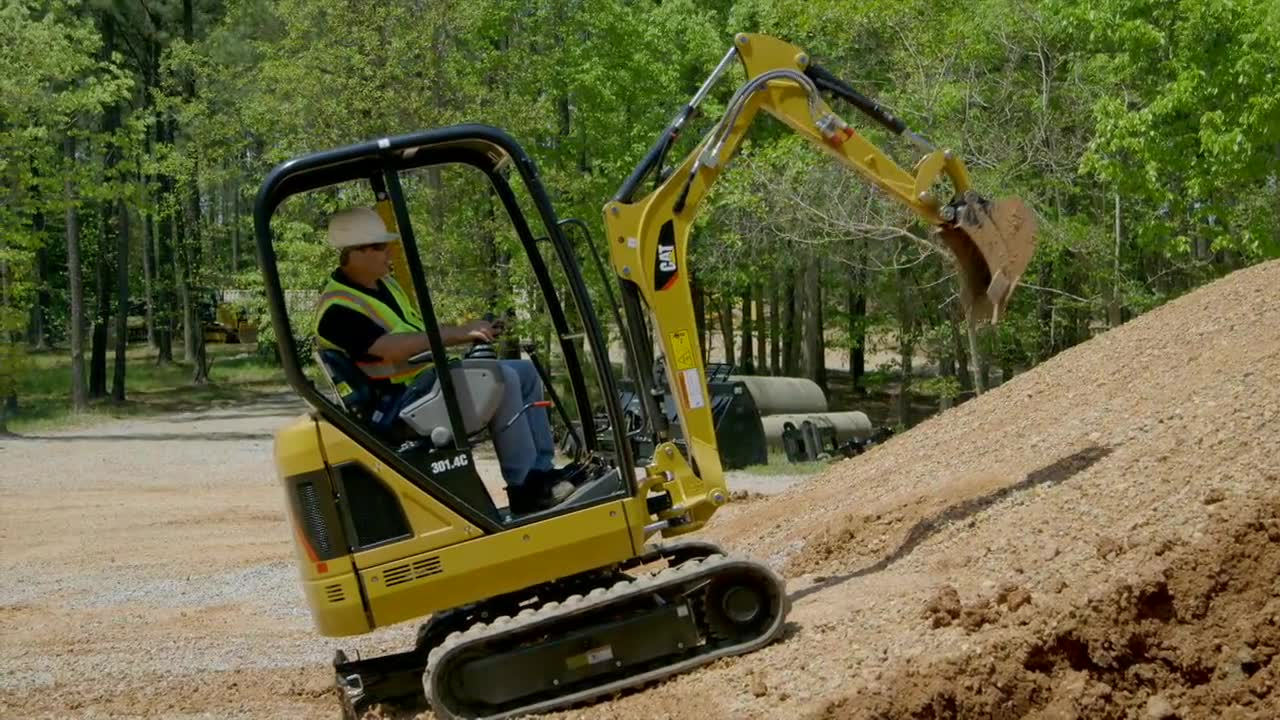attachment-bucket: (927, 166, 1049, 327)
cabin: (247, 122, 655, 645)
forearm: (729, 36, 954, 210)
upperarm: (631, 80, 772, 533)
wheelbase: (415, 512, 797, 719)
